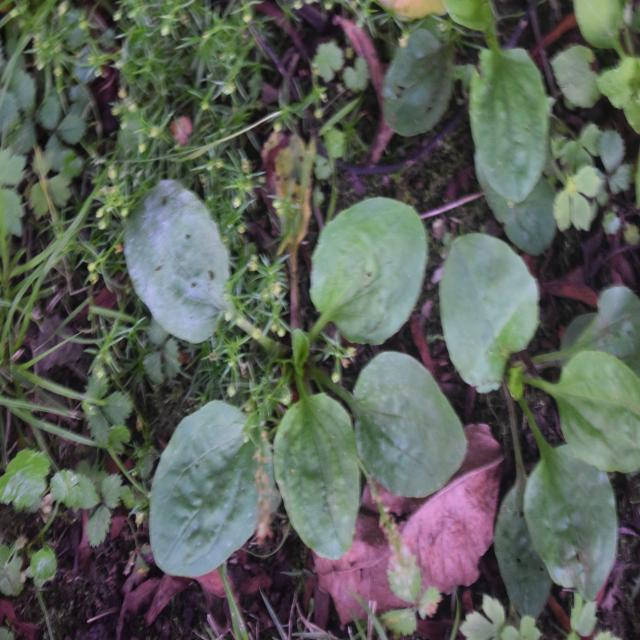plantain: (123, 179, 460, 575), (440, 218, 631, 600)
